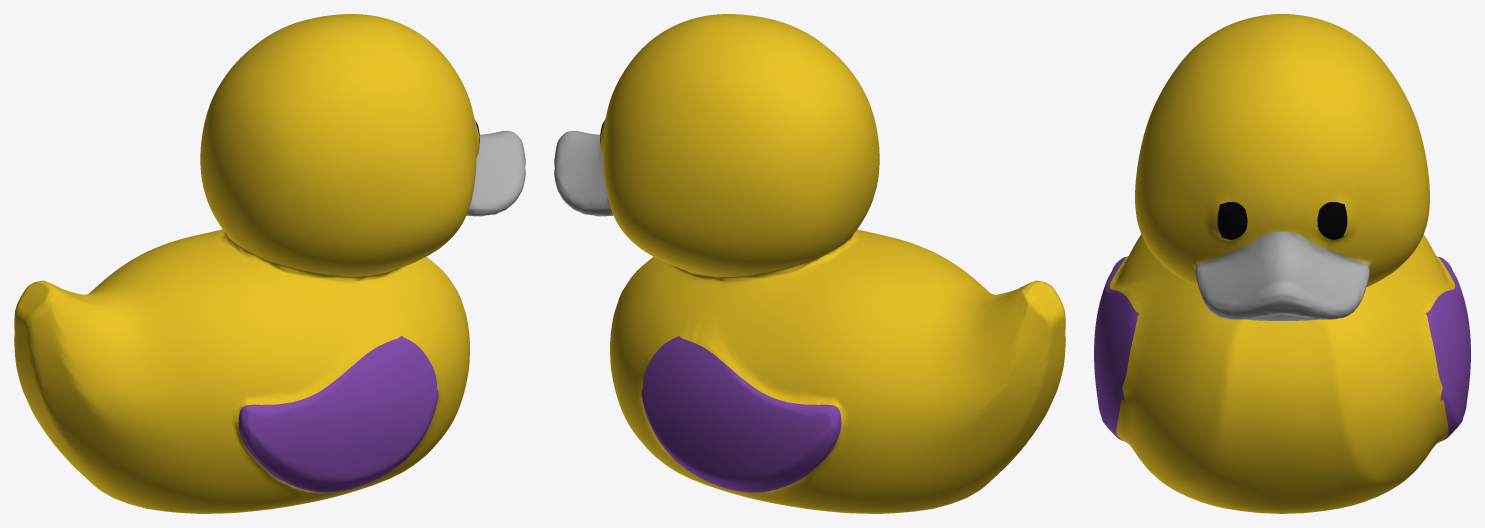
The model's file is DUCKS.glb.
3 views of the same model, side by side, from view 1: azimuth 30°, elevation 25°; view 2: azimuth 150°, elevation 25°; view 3: azimuth 270°, elevation 25° (orthographic). The views are drawn at different scales.
Parts seen in each view (by area): view 1: BODY, WING, PEEK; view 2: BODY, WING, PEEK; view 3: BODY, PEEK, WING, EYES.
Part boxes in pixels (left/top/right/bottom): BODY: left=14, top=14, right=479, bottom=513; WING: left=238, top=336, right=438, bottom=492; PEEK: left=466, top=130, right=525, bottom=216; BODY: left=600, top=14, right=1065, bottom=513; WING: left=641, top=336, right=841, bottom=492; PEEK: left=554, top=130, right=613, bottom=216; BODY: left=1110, top=14, right=1454, bottom=513; PEEK: left=1195, top=231, right=1369, bottom=320; WING: left=1094, top=257, right=1470, bottom=440; EYES: left=1217, top=202, right=1347, bottom=239.
Size of the model in its own units: 120 by 94.81 by 71.59.
